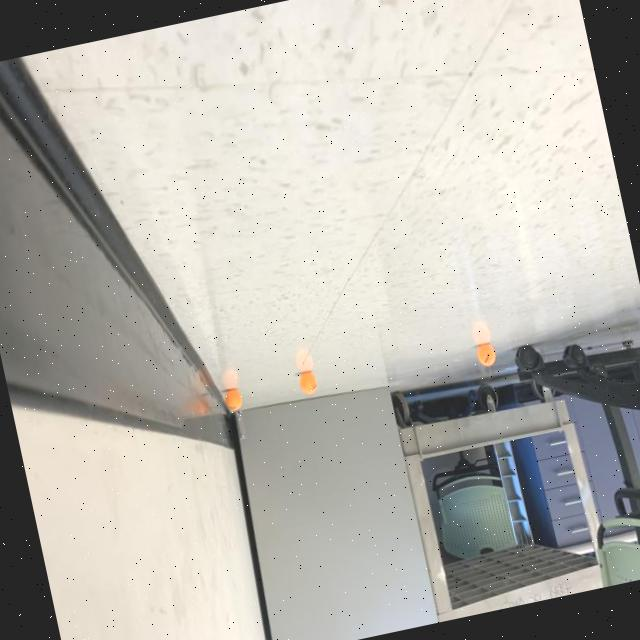ping-pong-ball: (474, 341, 498, 369), (297, 369, 320, 396), (222, 386, 244, 413)
